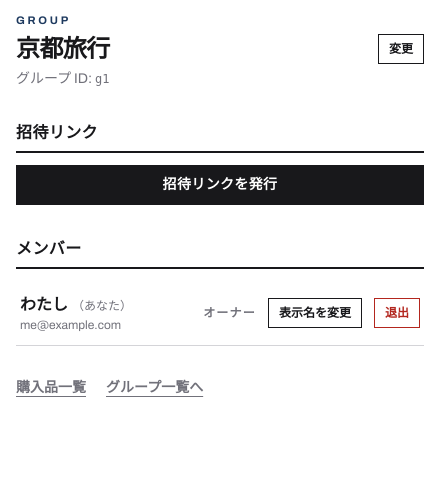
Test: 招待が無いときは発行ボタンを表示し、発行すると URL が表示される
Click the button "招待リンクを発行" at (220, 184), box [16,164,424,204]
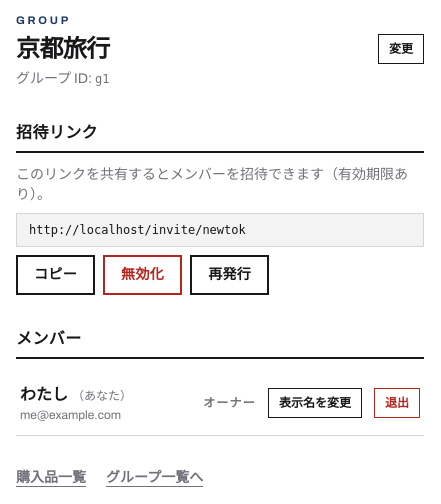
Result: the text "http://localhost/invite/newtok" is shown at [16,212,424,246]
